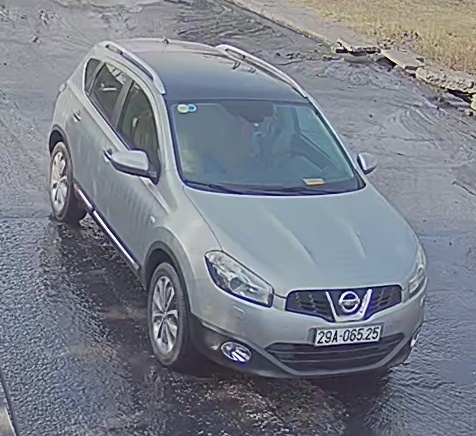vehicle plate: (307, 319, 392, 345)
